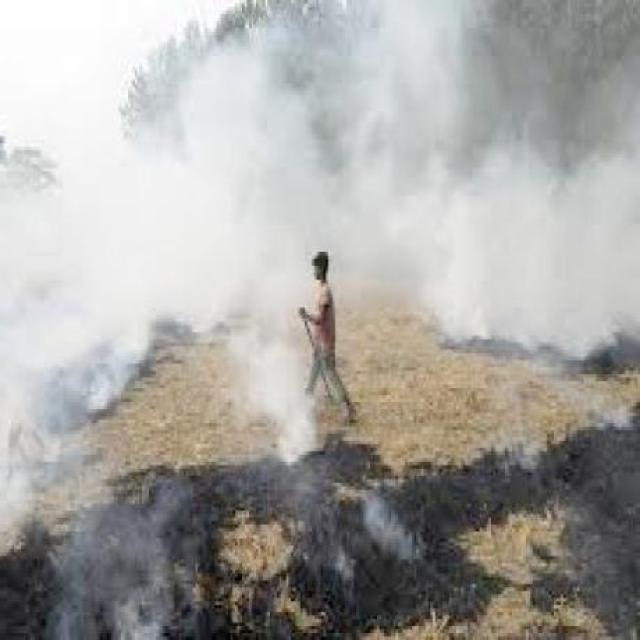Smoke: (347, 1, 636, 352), (139, 7, 312, 451), (0, 53, 134, 517), (48, 489, 184, 634), (359, 486, 433, 580)
